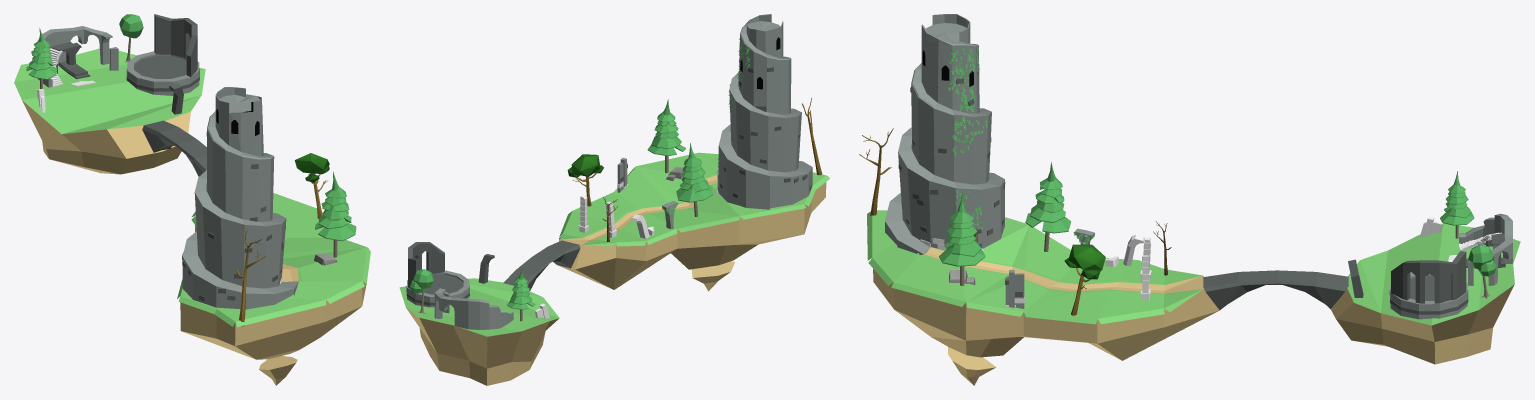
The model's file is SM_03 tower.fbx.
3 views of the same model, side by side, from view 1: azimuth 30°, elevation 25°; view 2: azimuth 150°, elevation 25°; view 3: azimuth 270°, elevation 25° (orthographic). The views are drawn at different scales.
Parts seen in each view (by area): view 1: Tower.001, Cylinder.014, Cylinder.018, Cylinder.019, Cylinder.021, Cylinder.024, Pine.004, Cube.007, Pine.005, Tree.001, Cylinder.001, Cylinder.023 (+2 smaller); view 2: Cylinder.014, Tower.001, Cylinder.018, Cube.007, Cylinder.024, Pine.003, Pine.004, Cylinder.019, Cylinder.021, Tree.001, Cylinder.001, Pine.005 (+1 smaller); view 3: Cylinder.014, Tower.001, Cylinder.018, Cylinder.024, Cylinder.021, Pine.004, Pine.003, Cube.007, Cylinder.019, Tree.001, Pine.005, Cylinder.001 (+2 smaller).
Part boxes in pixels (x1,y1,x2,y2): Tower.001: [182, 87, 298, 309]; Cylinder.014: [177, 193, 370, 359]; Cylinder.018: [14, 48, 205, 174]; Cylinder.019: [127, 51, 199, 95]; Cylinder.021: [154, 14, 197, 76]; Cylinder.024: [142, 120, 206, 176]; Pine.004: [315, 171, 356, 257]; Cube.007: [37, 26, 118, 87]; Pine.005: [26, 28, 56, 88]; Tree.001: [294, 153, 329, 218]; Cylinder.001: [259, 356, 297, 385]; Cylinder.023: [119, 14, 143, 62]; Cylinder.014: [558, 152, 830, 289]; Tower.001: [718, 14, 812, 209]; Cylinder.018: [399, 278, 559, 385]; Cube.007: [434, 288, 513, 329]; Cylinder.024: [503, 240, 580, 290]; Pine.003: [676, 143, 713, 216]; Pine.004: [647, 99, 685, 173]; Cylinder.019: [407, 270, 469, 307]; Cylinder.021: [408, 242, 444, 288]; Tree.001: [567, 154, 603, 206]; Cylinder.001: [691, 261, 734, 291]; Pine.005: [507, 267, 535, 321]; Cylinder.014: [867, 210, 1219, 360]; Tower.001: [885, 14, 1004, 254]; Cylinder.018: [1330, 223, 1520, 364]; Cylinder.024: [1203, 270, 1348, 310]; Cylinder.021: [1391, 251, 1466, 303]; Pine.004: [939, 192, 985, 285]; Pine.003: [1025, 162, 1070, 251]; Cube.007: [1459, 213, 1512, 285]; Cylinder.019: [1390, 273, 1467, 319]; Tree.001: [1064, 244, 1105, 315]; Pine.005: [1440, 171, 1474, 238]; Cylinder.001: [948, 347, 996, 385].
Bounding box in the file's own units: 2723 × 3270 × 5833.
